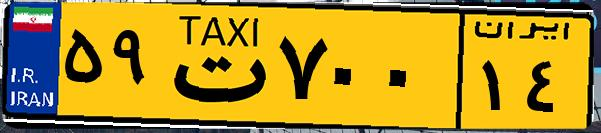0: (385, 28, 445, 110), (330, 28, 385, 110)
1: (475, 38, 525, 113)
4: (525, 38, 570, 115)
5: (57, 26, 110, 100)
7: (270, 28, 330, 110)
9: (110, 28, 158, 98)
ت: (158, 12, 270, 120)
